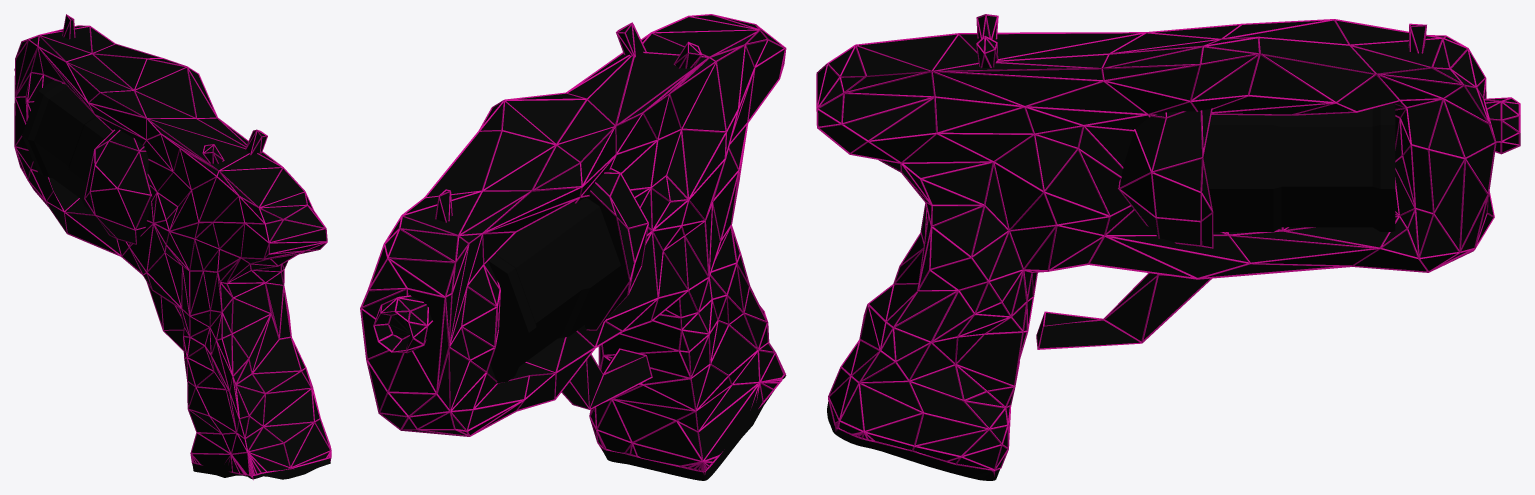
The model's file is EnergyPistol.obj.
3 views of the same model, side by side, from view 1: azimuth 30°, elevation 25°; view 2: azimuth 150°, elevation 25°; view 3: azimuth 270°, elevation 25° (orthographic). The views are drawn at different scales.
Visible parts, largest first — view 1: Pistol_Cube.001, Cylinder_Cube.007; view 2: Pistol_Cube.001, Cylinder_Cube.007; view 3: Pistol_Cube.001, Cylinder_Cube.007.
Part boxes in pixels (box(x1,y1,x2,y2)): Pistol_Cube.001: box(14, 14, 331, 480); Cylinder_Cube.007: box(22, 80, 111, 211); Pistol_Cube.001: box(360, 14, 786, 480); Cylinder_Cube.007: box(488, 197, 620, 383); Pistol_Cube.001: box(816, 14, 1520, 480); Cylinder_Cube.007: box(1204, 102, 1395, 231).
Bounding box in the file's own units: 0.9153 × 2.34 × 3.43.
